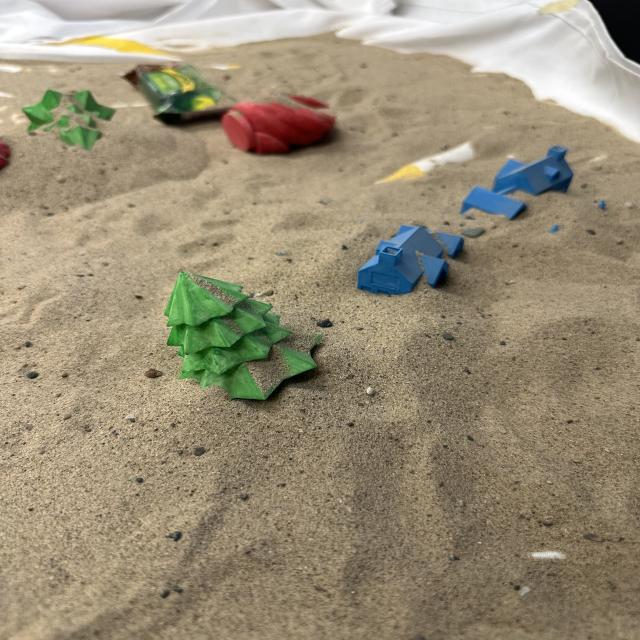fire: (219, 97, 337, 156)
house: (354, 223, 457, 295), (491, 144, 574, 196), (459, 185, 526, 221)
tree: (162, 268, 323, 402), (21, 88, 121, 148)
